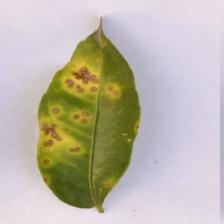canker: (42, 58, 130, 164)
